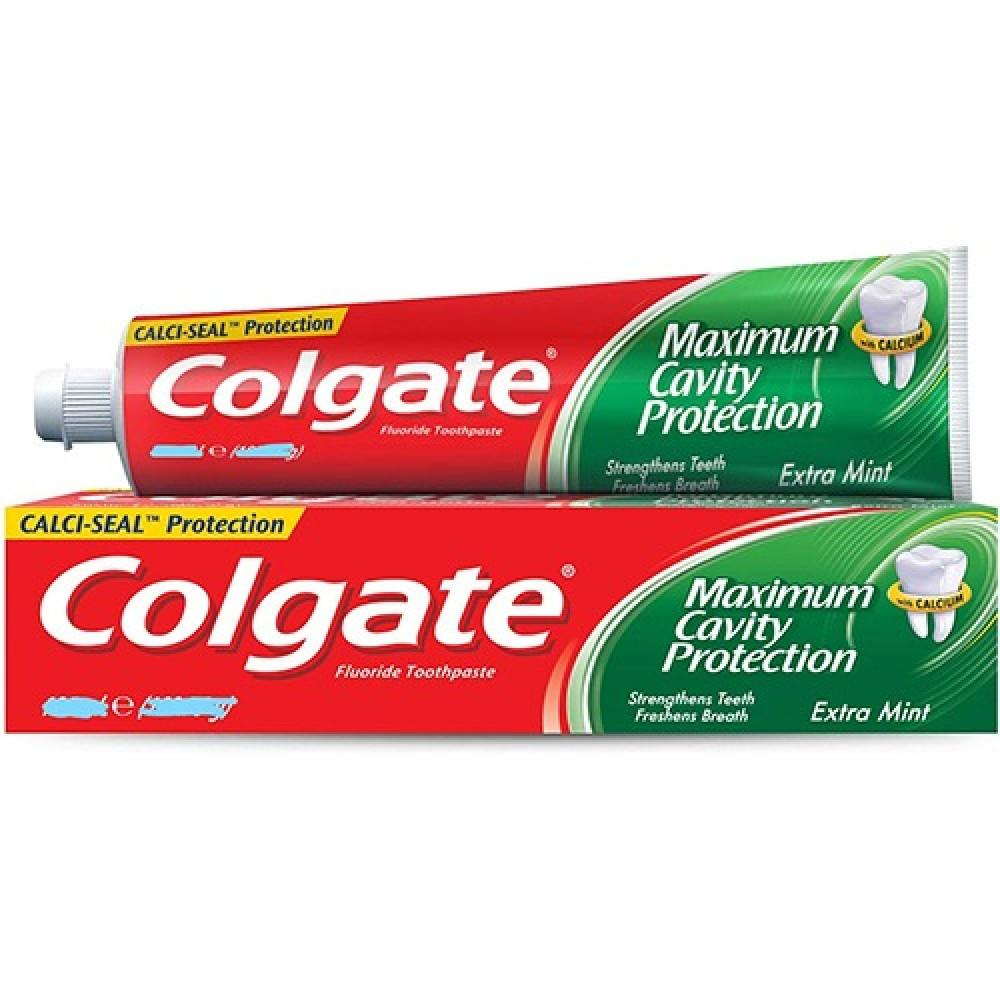Colgate: (3, 248, 999, 737)
